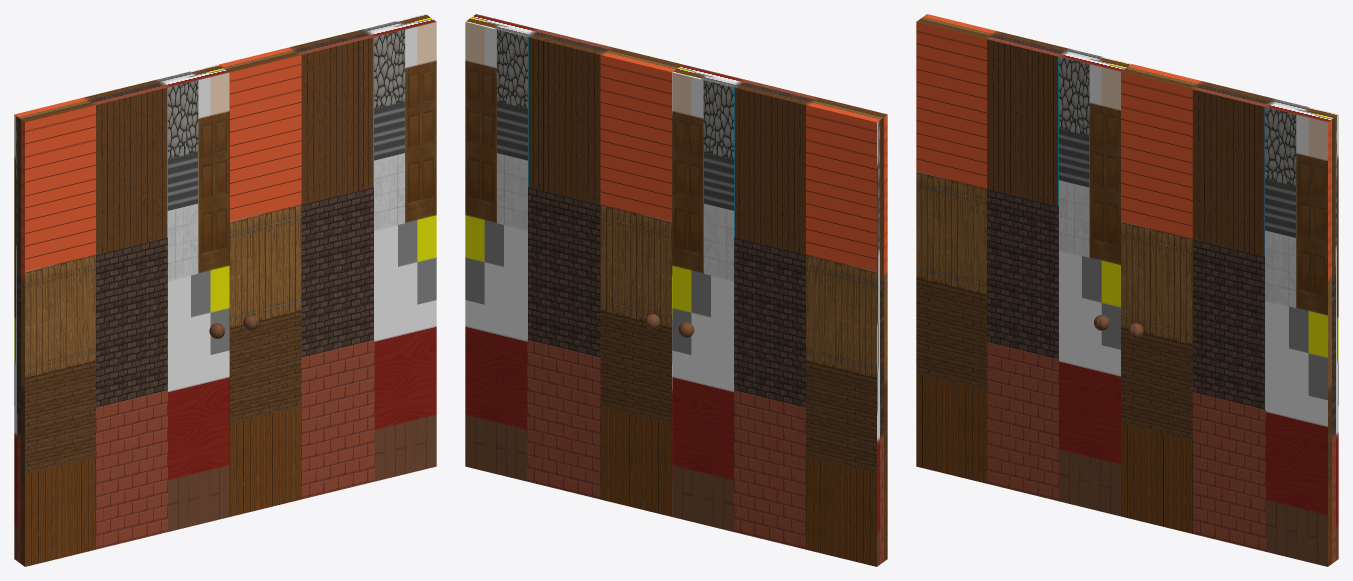
Rendered from door (1).fbx.
3 views of the same model, side by side, from view 1: azimuth 30°, elevation 25°; view 2: azimuth 150°, elevation 25°; view 3: azimuth 330°, elevation 25° (orthographic).
Visible parts, largest first — view 1: polySurface461, pSphere9; view 2: polySurface461, pSphere9; view 3: pSphere9, polySurface461.
Boxes of the visible parts, x1=… form: polySurface461: x1=14, y1=64, x2=229, y2=566; pSphere9: x1=219, y1=14, x2=436, y2=516; polySurface461: x1=672, y1=64, x2=887, y2=566; pSphere9: x1=465, y1=14, x2=682, y2=516; pSphere9: x1=1121, y1=64, x2=1338, y2=566; polySurface461: x1=916, y1=14, x2=1131, y2=516.
Bounding box in the file's own units: 0.7338 × 0.7571 × 0.0731.
